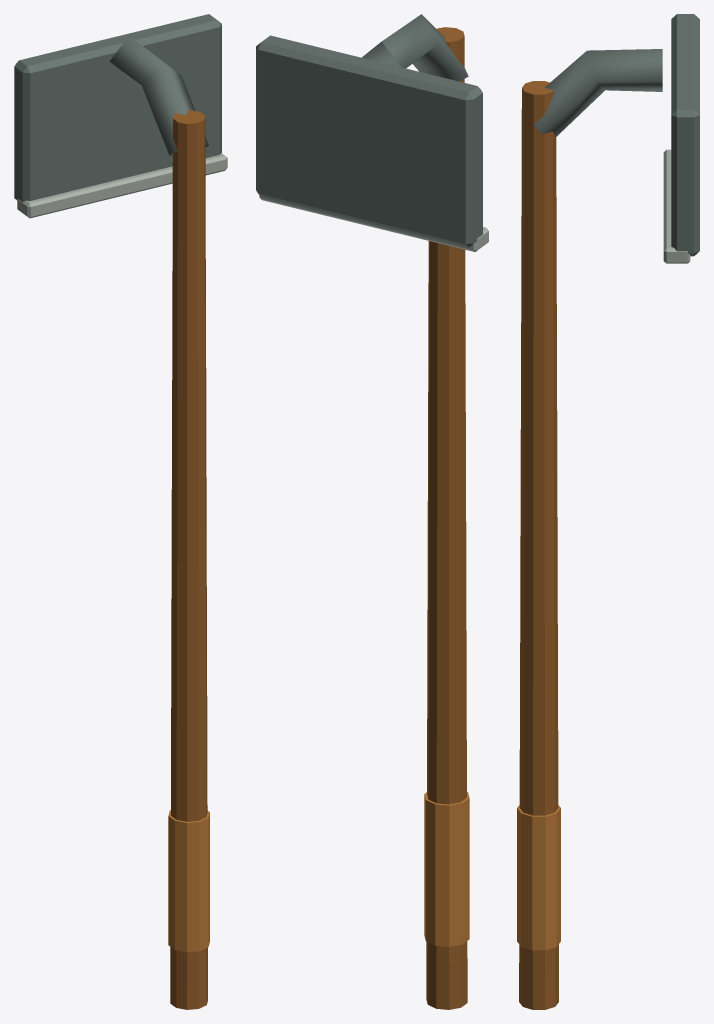
File: hoe_prototype_v01.glb
3 renders of one model, left to right at view 1: azimuth 30°, elevation 25°; view 2: azimuth 150°, elevation 25°; view 3: azimuth 270°, elevation 25°, orthographic. The views are drawn at different scales.
Parts seen in each view (by area): view 1: Hoe ash handle.004, Hoe blade.004, Hoe grip wrap.004, Hoe curved socket.004, Hoe cutting edge.004; view 2: Hoe blade.004, Hoe ash handle.004, Hoe grip wrap.004, Hoe curved socket.004, Hoe cutting edge.004; view 3: Hoe ash handle.004, Hoe blade.004, Hoe grip wrap.004, Hoe curved socket.004, Hoe cutting edge.004.
Part boxes in pixels (x1,y1,x2,y2): Hoe ash handle.004: [170, 110, 207, 1009]; Hoe blade.004: [14, 14, 221, 202]; Hoe grip wrap.004: [168, 810, 209, 952]; Hoe curved socket.004: [109, 36, 208, 156]; Hoe cutting edge.004: [17, 153, 227, 218]; Hoe blade.004: [256, 35, 482, 247]; Hoe ash handle.004: [426, 27, 467, 1009]; Hoe grip wrap.004: [424, 791, 469, 946]; Hoe curved socket.004: [362, 14, 468, 81]; Hoe cutting edge.004: [259, 195, 488, 251]; Hoe ash handle.004: [519, 81, 558, 1009]; Hoe blade.004: [671, 14, 699, 256]; Hoe grip wrap.004: [517, 805, 560, 950]; Hoe curved socket.004: [534, 49, 662, 136]; Hoe cutting edge.004: [663, 149, 690, 263].
Bounding box in the file's own units: 0.251 × 1.1 × 0.192.
